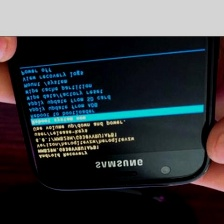phone: (0, 0, 221, 194)
